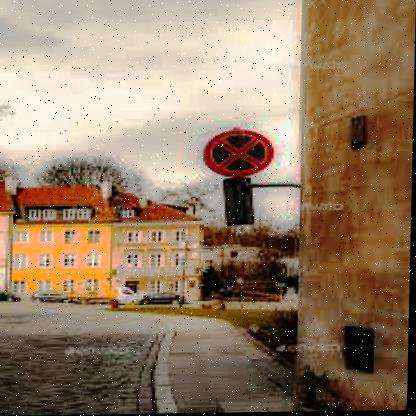No stopping: (198, 125, 277, 179)
